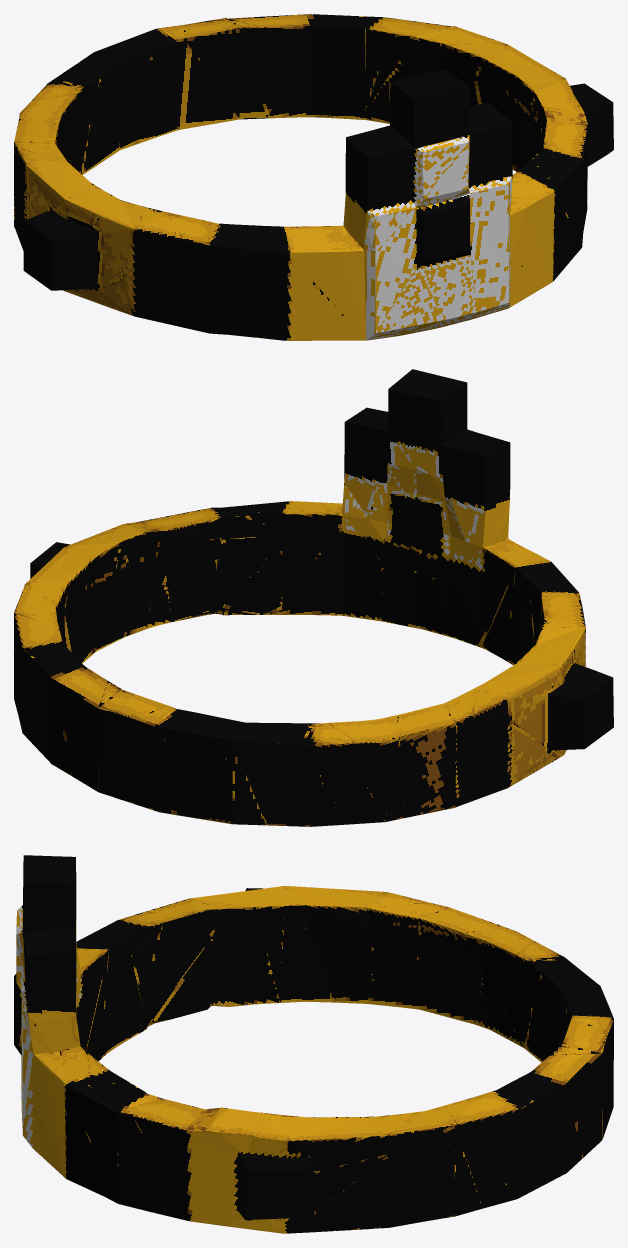
The picture shows the model from 3 angles, top to bottom: view 1: azimuth 30°, elevation 25°; view 2: azimuth 150°, elevation 25°; view 3: azimuth 270°, elevation 25°; orthographic projection. The views are drawn at different scales.
Visible parts, largest first — view 1: OBJ032; view 2: OBJ032; view 3: OBJ032.
Boxes of the visible parts, x1,y1,x2,y2 form: OBJ032: (14, 14, 613, 340); OBJ032: (14, 369, 613, 826); OBJ032: (14, 855, 613, 1233).
Size of the model in its own units: 0.2323 by 0.0947 by 0.2078.
Materials: 1 (1 with a texture image).
